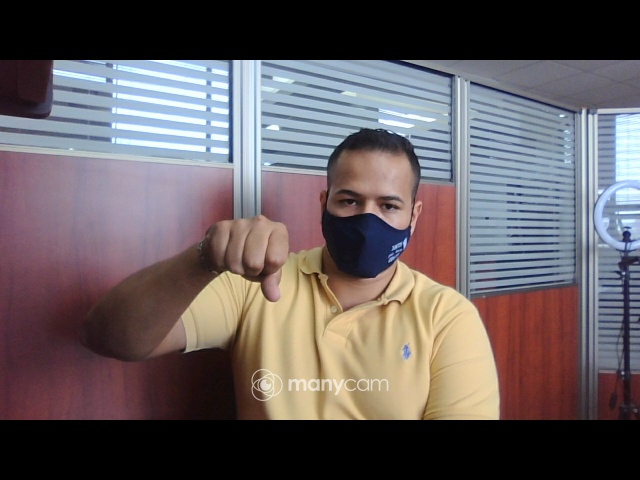Yes: (203, 211, 305, 307)
